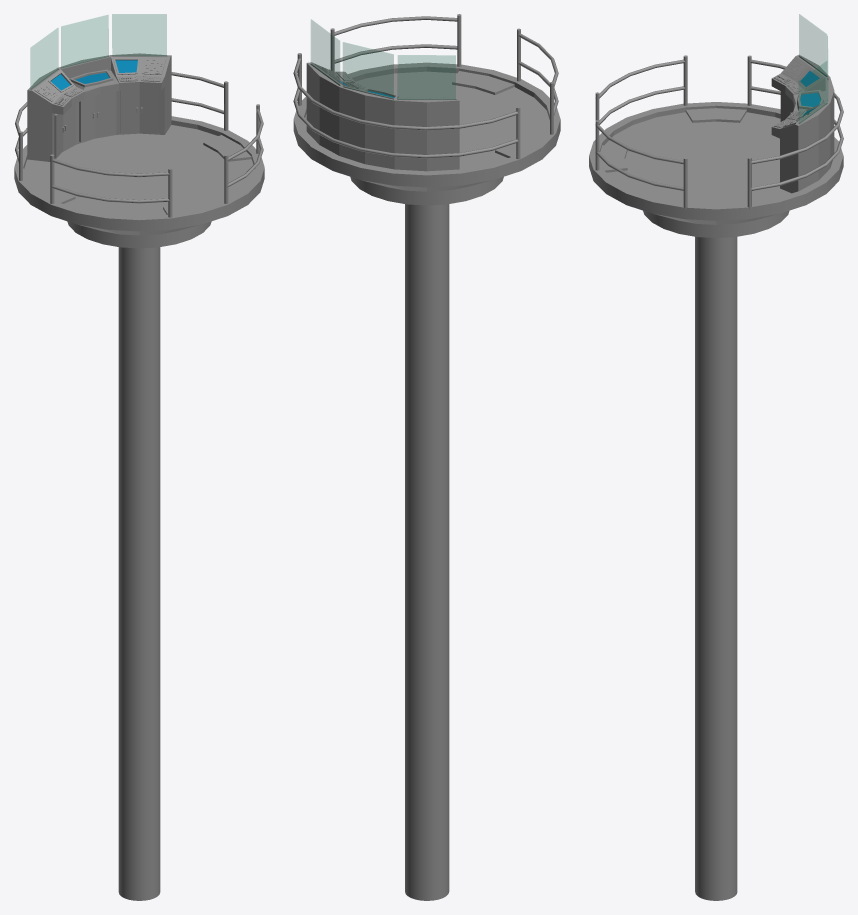
Rendered from PlatformExport.FBX.
The picture shows the model from 3 angles, left to right: view 1: azimuth 30°, elevation 25°; view 2: azimuth 150°, elevation 25°; view 3: azimuth 270°, elevation 25°; orthographic projection. The views are drawn at different scales.
Visible parts, largest first — view 1: Main Platform, PlaceHolder001, Emissive; view 2: Main Platform, PlaceHolder001; view 3: Main Platform, PlaceHolder001.
Part boxes in pixels (bbox=[...]): Main Platform: bbox=[14, 53, 264, 900]; PlaceHolder001: bbox=[30, 14, 166, 89]; Emissive: bbox=[51, 60, 137, 90]; Main Platform: bbox=[293, 14, 560, 900]; PlaceHolder001: bbox=[311, 19, 455, 99]; Main Platform: bbox=[589, 54, 843, 900]; PlaceHolder001: bbox=[799, 14, 827, 123].
Bounding box in the file's own units: 135 × 495 × 135.
